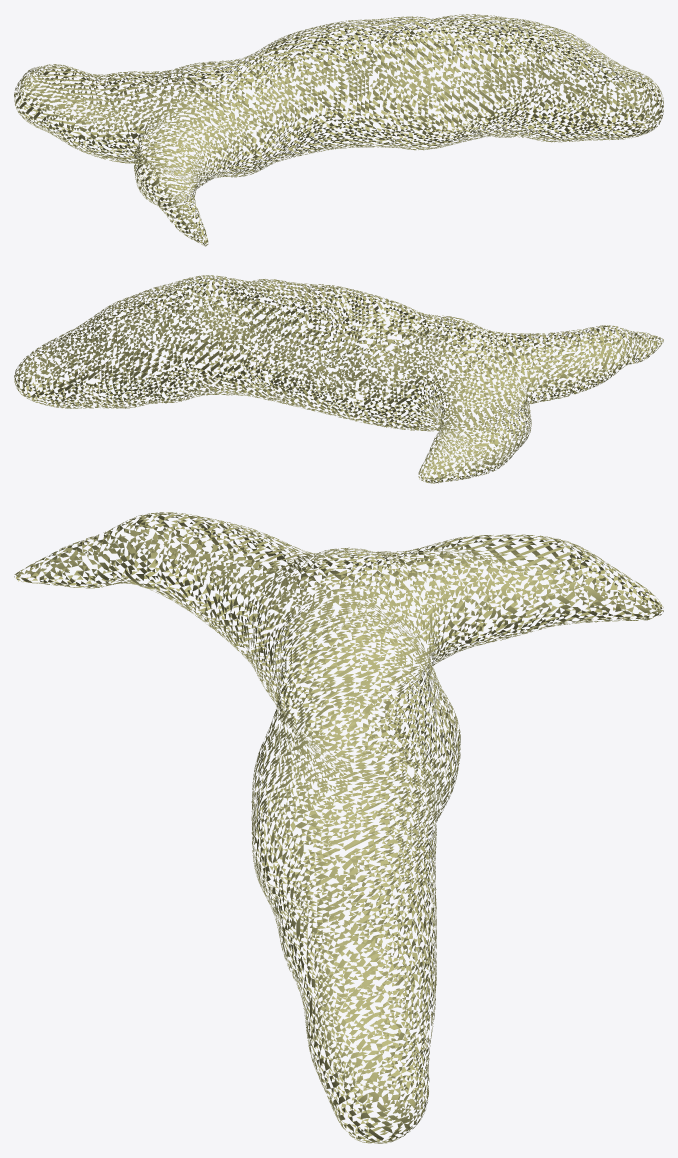
File: morph_009.glb
3 views of the same model, one above another, from view 1: azimuth 30°, elevation 25°; view 2: azimuth 150°, elevation 25°; view 3: azimuth 270°, elevation 25° (orthographic). The views are drawn at different scales.
Bounding box in the file's own units: 113 × 34.48 × 73.11.
